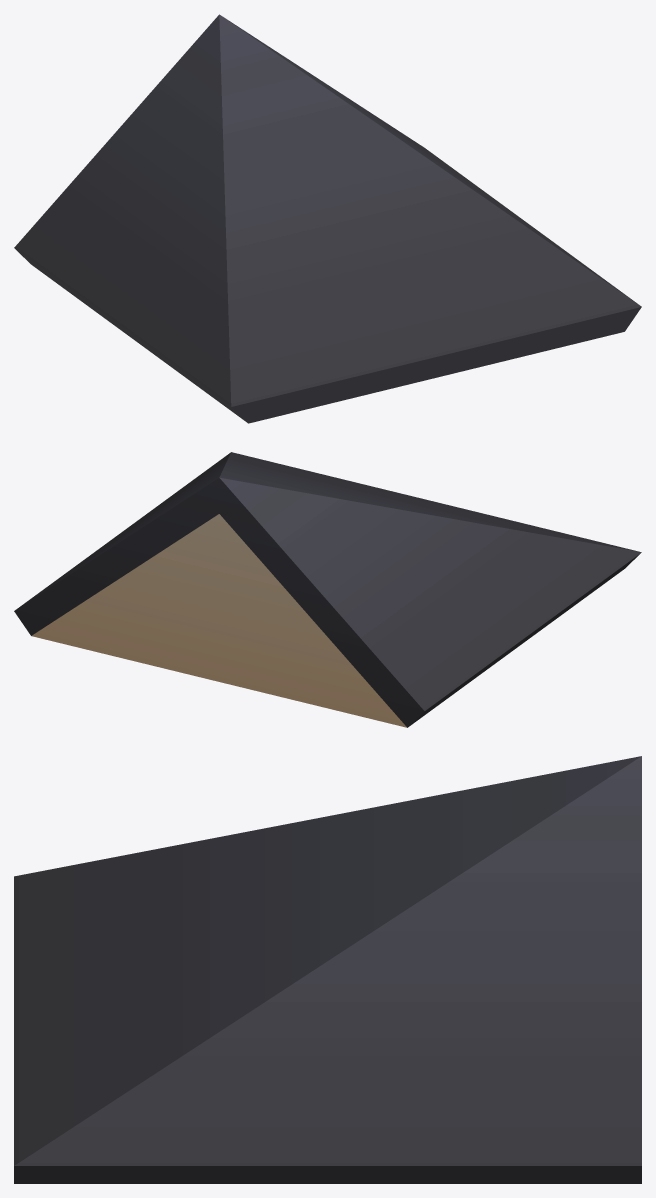
Rendered from kenney-modular-buildings-roof-gable-end.glb.
3 renders of one model, top to bottom at view 1: azimuth 30°, elevation 25°; view 2: azimuth 150°, elevation 25°; view 3: azimuth 270°, elevation 25°, orthographic. The views are drawn at different scales.
Parts seen in each view (by area): view 1: roof-gable-end; view 2: roof-gable-end; view 3: roof-gable-end.
Boxes of the visible parts, x1=… form: roof-gable-end: x1=14, y1=14, x2=641, y2=423; roof-gable-end: x1=14, y1=452, x2=641, y2=727; roof-gable-end: x1=14, y1=756, x2=641, y2=1183.
Size of the model in its own units: 1.09 by 0.5188 by 1.
Materials: 1 (1 with a texture image).
